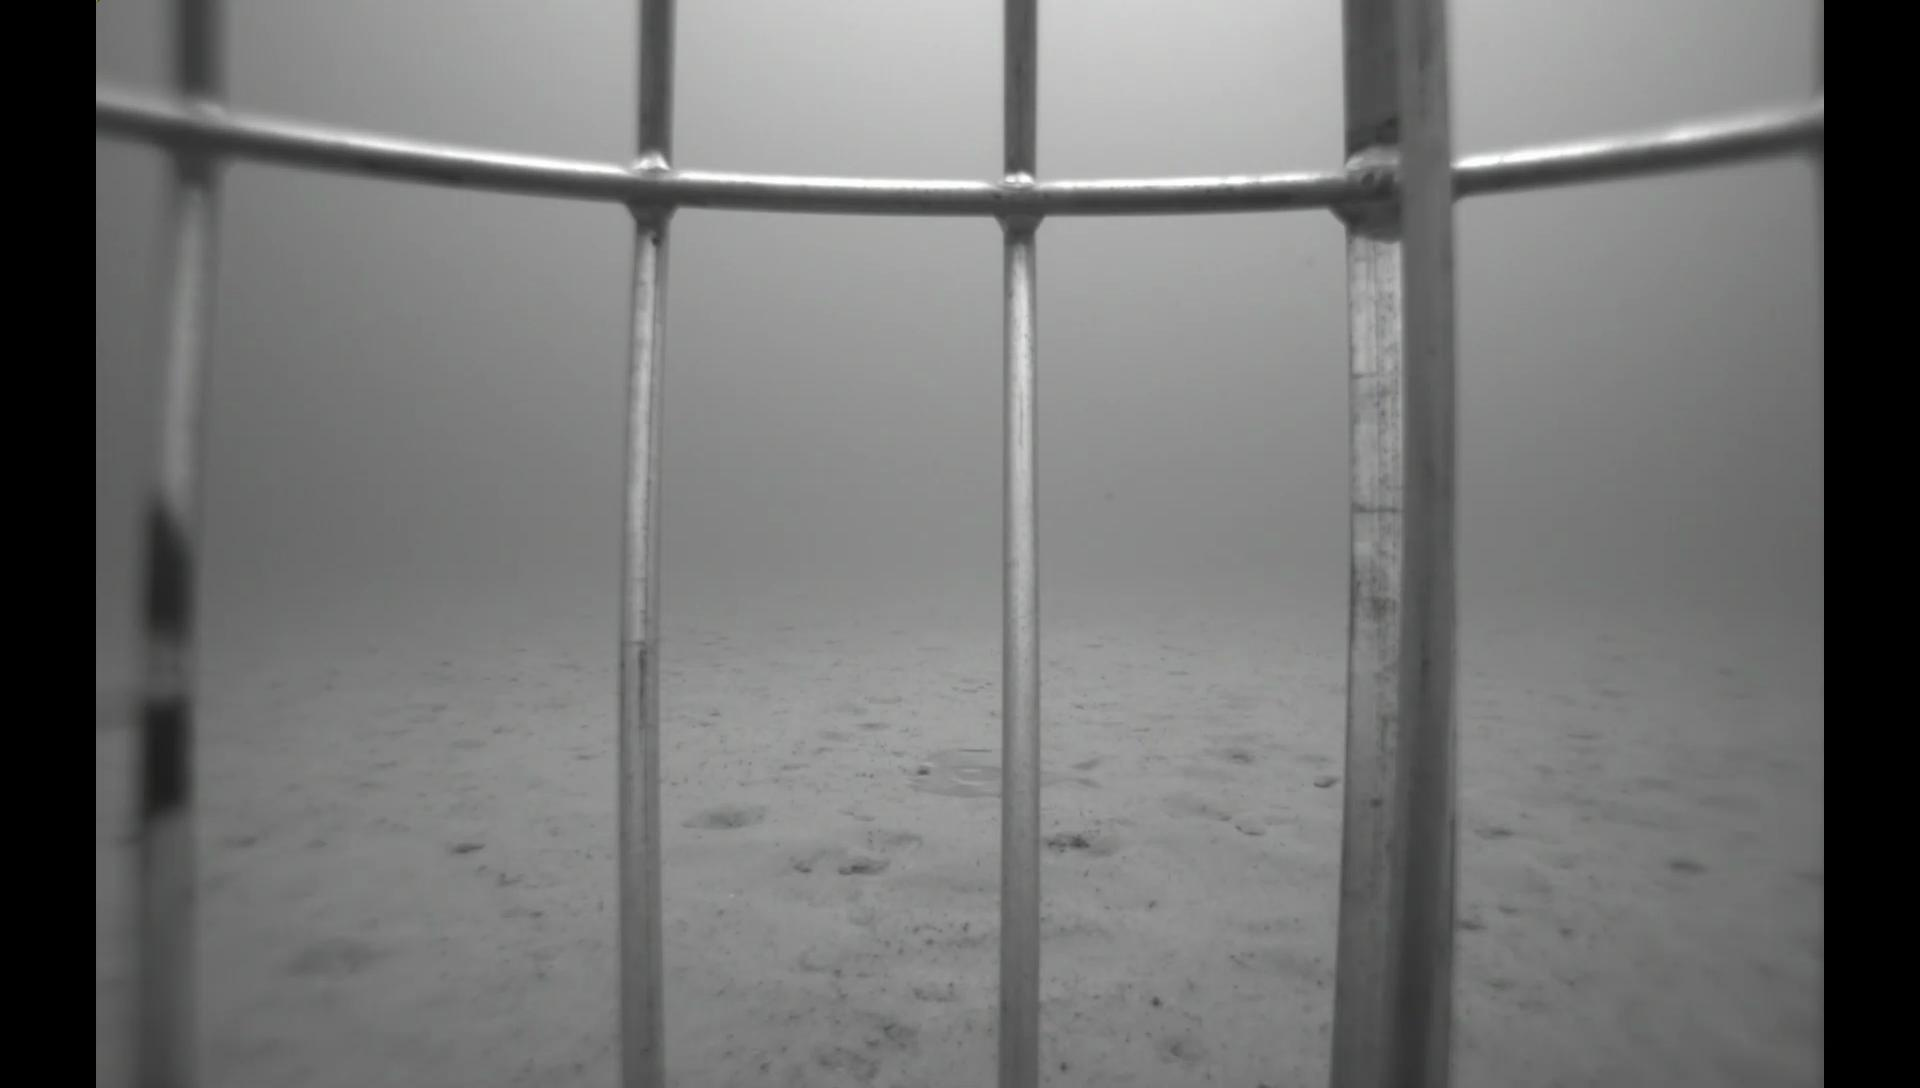CAULOLATILUSCYANOPS-170070101: (899, 742, 1117, 802)
